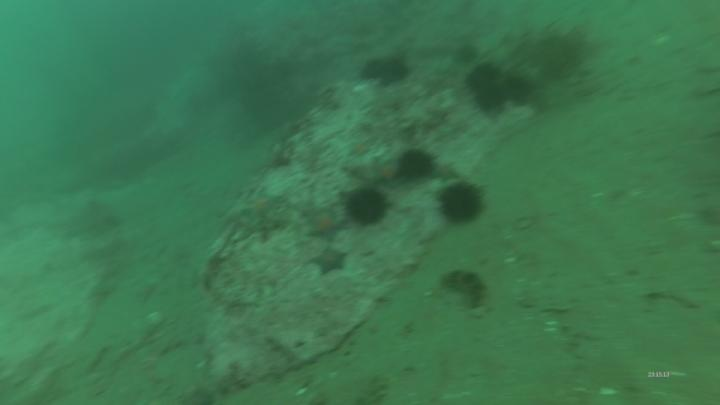echinus: (438, 181, 489, 230), (342, 184, 394, 229), (364, 55, 412, 89), (391, 149, 437, 182), (470, 80, 509, 114), (501, 68, 535, 105), (462, 61, 502, 92)
holothurian: (442, 264, 486, 316)
starfish: (240, 188, 285, 231), (353, 158, 399, 189), (306, 209, 346, 244), (308, 245, 349, 272), (433, 162, 458, 185)
